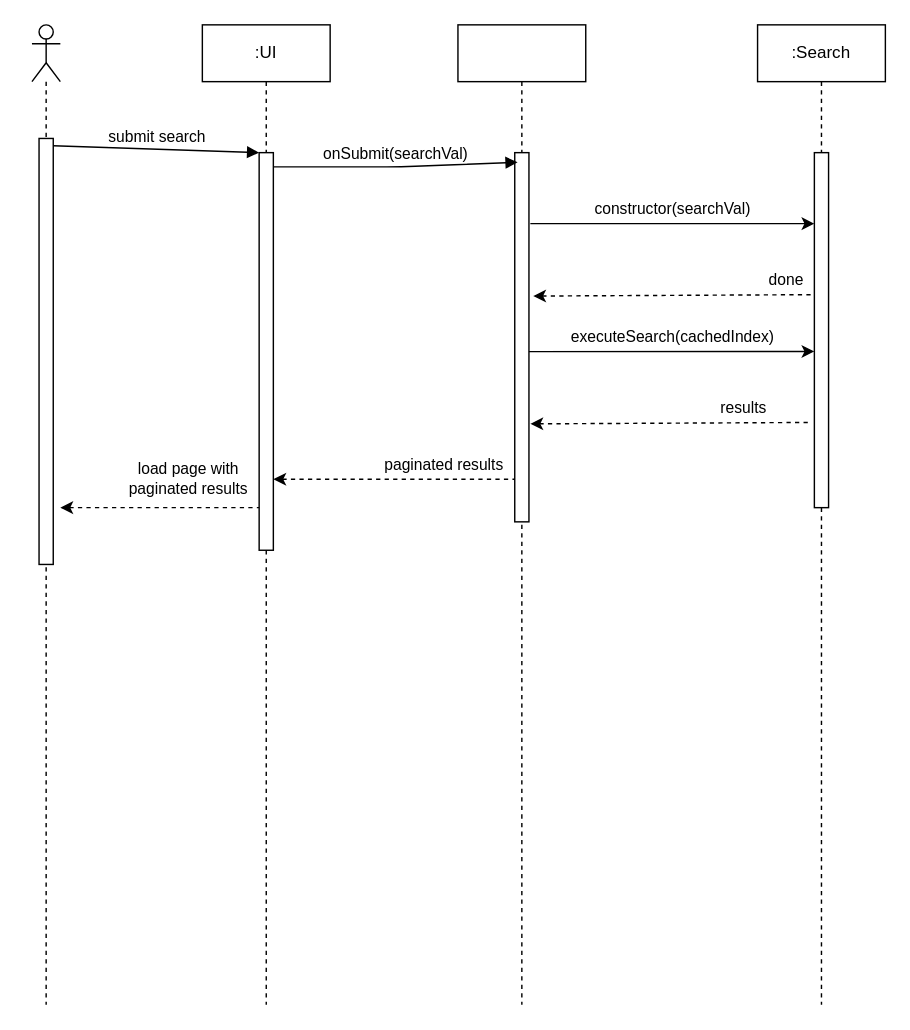
Image size: 910x1030. Some labels were removed from this diagram. The box of each missing label's shape, as (x1, y1, x2, y2) in pixels:
:CyberMiner Control: (457, 23, 586, 1005)
User Client: (31, 23, 60, 1005)
